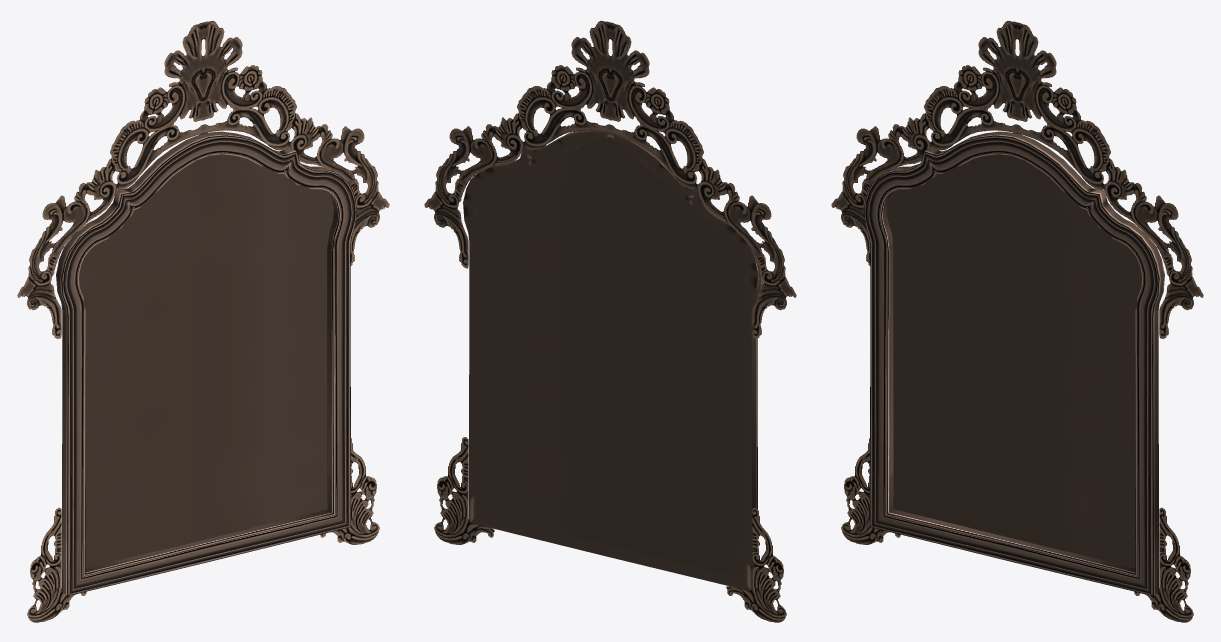
Rendered from Mirror01.FBX.
3 renders of one model, left to right at view 1: azimuth 30°, elevation 25°; view 2: azimuth 150°, elevation 25°; view 3: azimuth 330°, elevation 25°, orthographic.
Parts seen in each view (by area): view 1: Mirror01; view 2: Mirror01; view 3: Mirror01.
Boxes of the visible parts, box(x1,y1,x2,y2) form: Mirror01: box(17, 21, 389, 622); Mirror01: box(424, 21, 796, 622); Mirror01: box(831, 21, 1203, 622).
Bounding box in the file's own units: 141 × 3.81 × 202.
